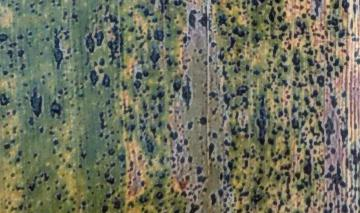tarspot: (48, 27, 65, 74), (106, 23, 123, 65), (254, 93, 267, 147), (27, 84, 46, 119), (325, 171, 347, 195), (182, 74, 194, 108), (324, 113, 335, 146), (47, 97, 63, 119), (302, 147, 313, 179), (82, 30, 96, 55), (96, 109, 111, 132), (290, 48, 303, 74), (146, 45, 162, 65), (292, 16, 307, 37), (187, 8, 198, 33), (93, 26, 106, 47), (142, 133, 155, 154), (98, 72, 113, 90), (221, 136, 239, 151), (205, 140, 217, 162), (152, 25, 166, 43), (197, 11, 211, 29), (300, 192, 312, 213), (338, 124, 350, 144), (326, 93, 340, 110), (88, 68, 100, 87), (101, 168, 115, 184), (139, 6, 156, 19), (1, 90, 13, 108), (250, 192, 265, 206), (170, 74, 181, 93), (221, 91, 232, 110), (266, 5, 278, 22), (197, 113, 210, 128), (225, 38, 238, 53), (230, 25, 246, 37), (289, 114, 301, 130), (208, 188, 217, 209), (289, 90, 302, 104), (235, 83, 249, 95), (322, 62, 334, 76), (113, 194, 122, 212), (207, 88, 219, 101), (247, 16, 259, 29), (150, 90, 164, 101), (306, 70, 315, 87), (315, 72, 325, 87), (151, 190, 166, 200), (188, 201, 200, 213), (14, 47, 27, 58), (174, 141, 185, 154), (251, 31, 262, 44), (225, 159, 236, 172), (167, 130, 181, 140), (240, 95, 250, 109), (340, 1, 350, 15), (124, 24, 138, 34), (305, 54, 315, 68), (271, 42, 279, 59), (1, 30, 10, 45), (266, 134, 275, 149), (116, 152, 128, 163), (131, 79, 142, 91), (193, 164, 204, 176), (195, 173, 207, 184), (336, 26, 347, 38), (1, 140, 13, 151), (126, 111, 138, 122), (279, 51, 289, 64), (100, 202, 111, 213), (50, 136, 61, 147), (14, 30, 25, 41), (185, 119, 195, 131), (105, 146, 117, 156), (172, 1, 187, 9), (228, 13, 238, 25), (174, 25, 184, 37), (292, 170, 304, 180), (250, 68, 262, 78), (273, 170, 282, 183), (126, 123, 139, 132), (155, 102, 164, 115), (257, 152, 267, 163), (255, 165, 265, 176), (328, 146, 339, 156), (278, 22, 290, 31), (310, 88, 319, 100), (7, 47, 14, 62), (36, 125, 46, 135), (326, 163, 336, 173), (314, 98, 324, 108), (275, 108, 285, 118), (208, 39, 217, 50), (242, 157, 249, 171), (211, 129, 219, 141), (1, 66, 8, 79), (186, 154, 195, 164), (133, 70, 142, 80), (274, 123, 283, 133), (140, 111, 151, 119), (337, 40, 346, 49), (178, 155, 186, 165), (143, 70, 151, 80), (295, 145, 302, 155)
